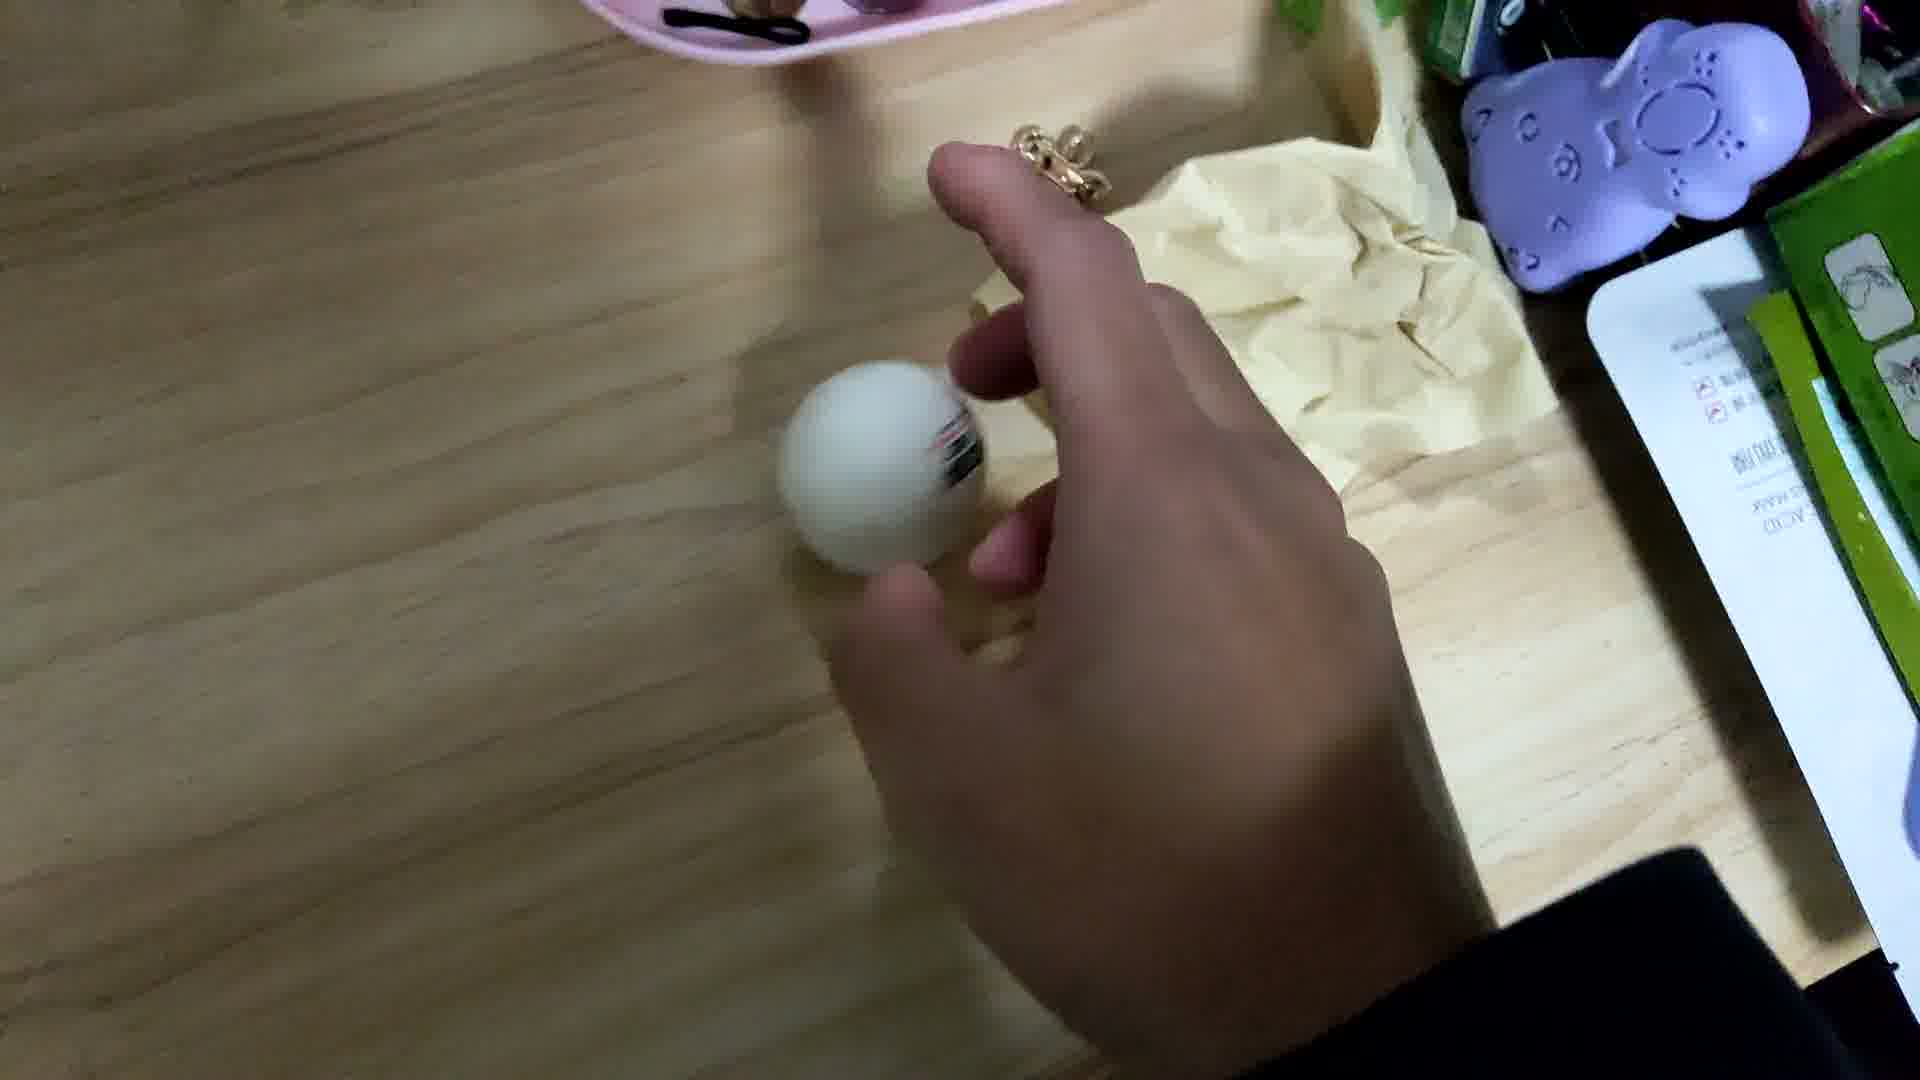Ball: (785, 357, 988, 568)
